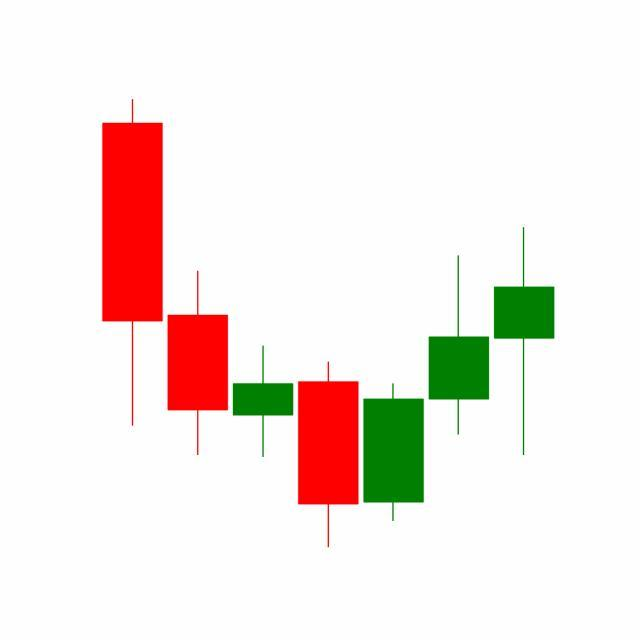Hikkake Pattern: (165, 252, 492, 549)
